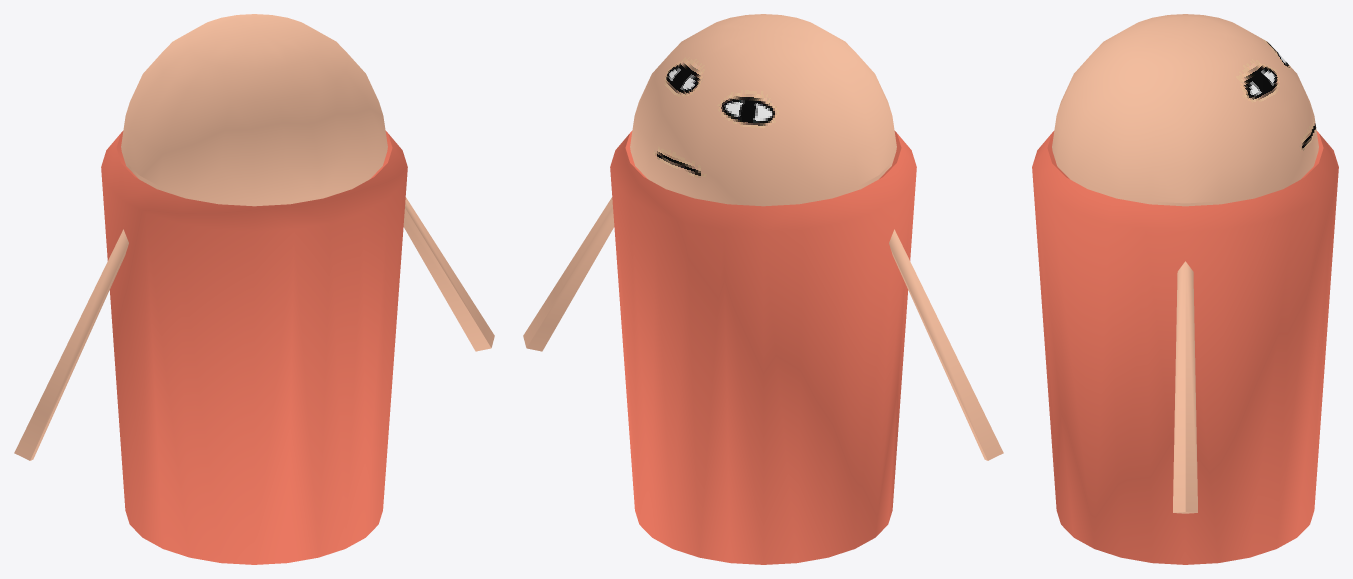
The model's file is ps2_save-icons_gintama.glb.
The picture shows the model from 3 angles, left to right: view 1: azimuth 30°, elevation 25°; view 2: azimuth 150°, elevation 25°; view 3: azimuth 270°, elevation 25°; orthographic projection.
Visible parts, largest first — view 1: icon.ico; view 2: icon.ico; view 3: icon.ico.
Part boxes in pixels (x1,y1,x2,y2): icon.ico: (14,14,494,564); icon.ico: (523,14,1003,564); icon.ico: (1032,14,1338,564).
Bounding box in the file's own units: 4.35 × 4.15 × 2.4.
Materials: 1 (1 with a texture image).
